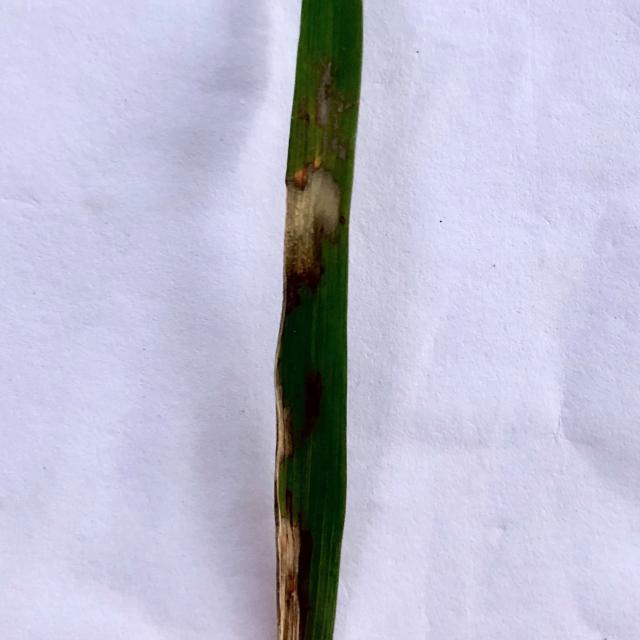leaf blight: (283, 155, 346, 283), (296, 63, 355, 156), (272, 510, 306, 640), (268, 384, 298, 466)
